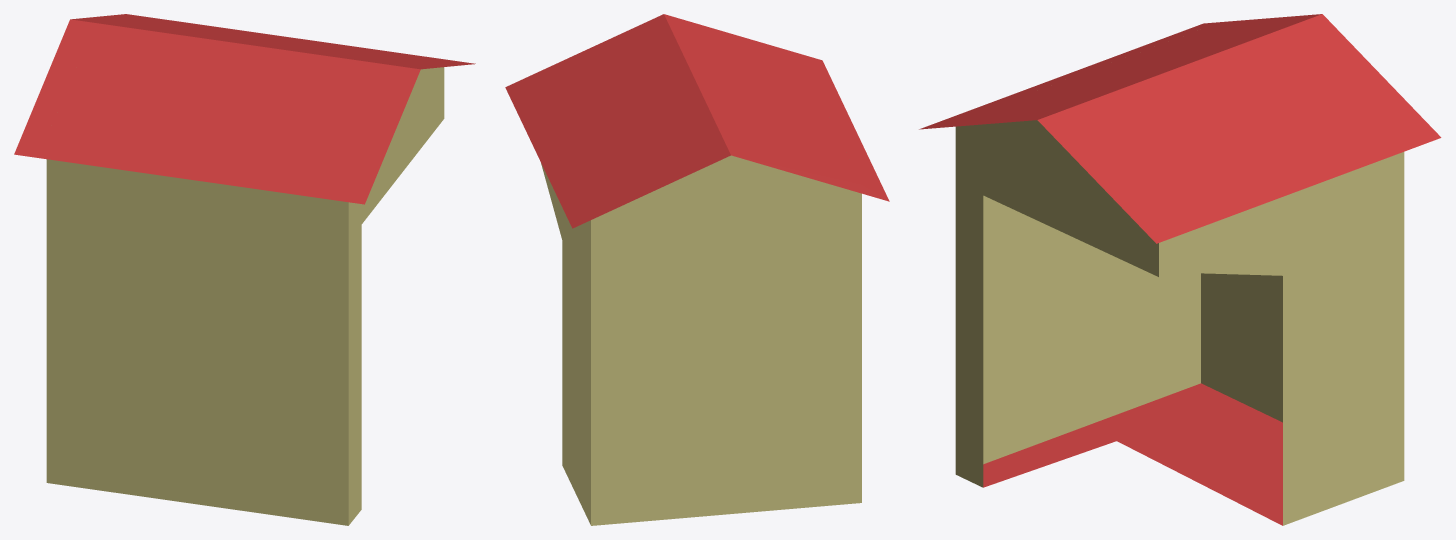
The picture shows the model from 3 angles, left to right: view 1: azimuth 30°, elevation 25°; view 2: azimuth 150°, elevation 25°; view 3: azimuth 270°, elevation 25°; orthographic projection. The views are drawn at different scales.
Visible parts, largest first — view 1: group_5, group_3, group_4; view 2: group_5, group_3, group_4; view 3: group_5, group_3, group_6, group_4.
Part boxes in pixels (<box>): group_5: <box>46,67,444,525</box>; group_3: <box>47,14,475,204</box>; group_4: <box>14,19,419,204</box>; group_5: <box>541,155,861,525</box>; group_3: <box>505,14,861,228</box>; group_4: <box>664,14,889,201</box>; group_5: <box>955,120,1404,525</box>; group_3: <box>919,14,1441,243</box>; group_6: <box>983,383,1282,525</box>; group_4: <box>922,14,1321,128</box>.
Bounding box in the file's own units: 14.78 × 14.83 × 12.85.
